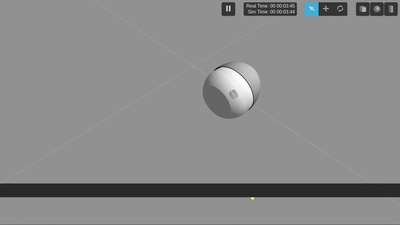mira_robot: (204, 62, 261, 119)
